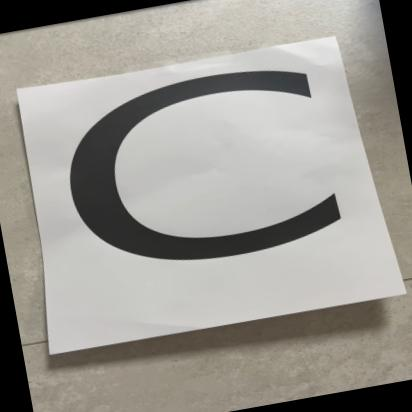seat: (21, 25, 393, 339)
